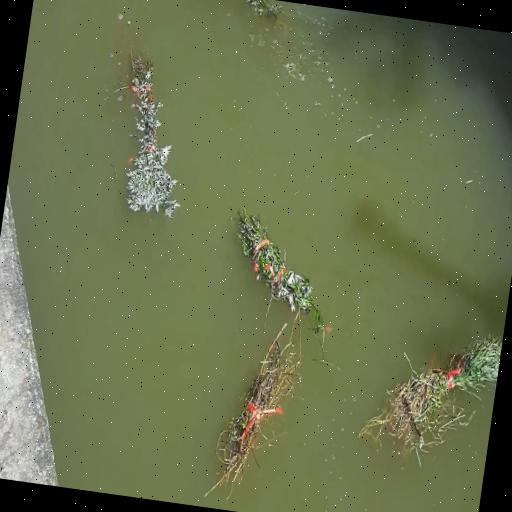twig: (202, 277, 314, 510), (352, 314, 504, 481), (102, 24, 204, 223), (224, 206, 339, 322), (243, 0, 283, 21)
